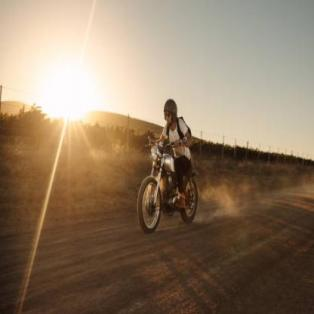Motocicleta: (134, 127, 200, 232)
